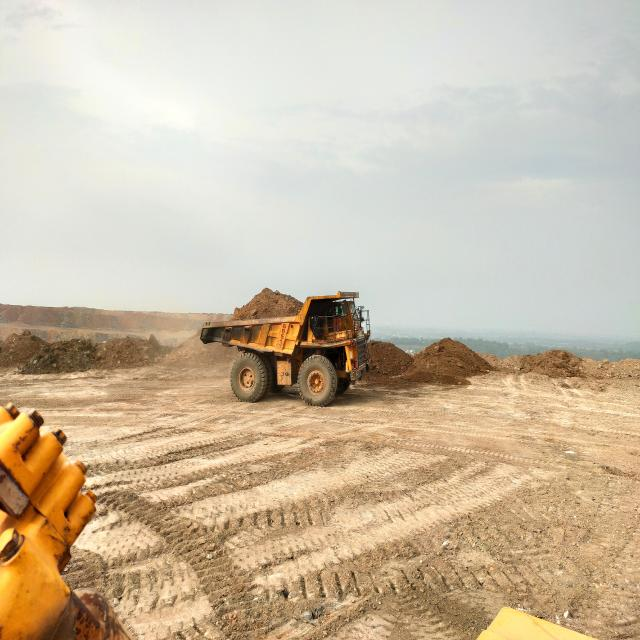dump_truck: (200, 292, 370, 407)
